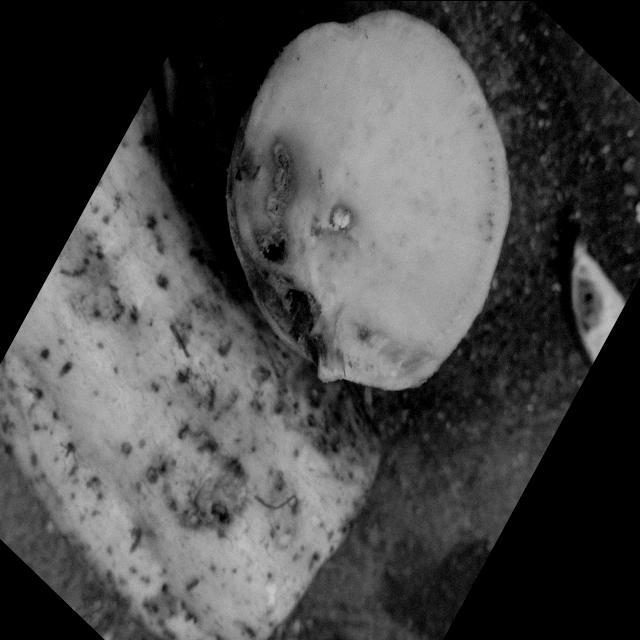Sick Sweet Potato_Tuber Rot: (228, 10, 510, 388)
